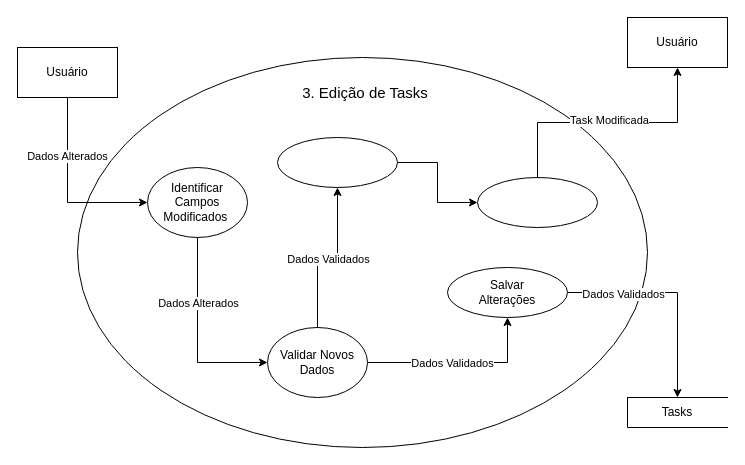
Image size: 745x465. Some labels were removed from this diagram. The shapes that lost their labels are listed below. From the top down, each one's box as (x1, y1, x2, y2) in pixels, then its label:
(276, 136, 398, 188): Gerar Exibição Atualizada
(476, 176, 598, 228): Apresentar exibição
